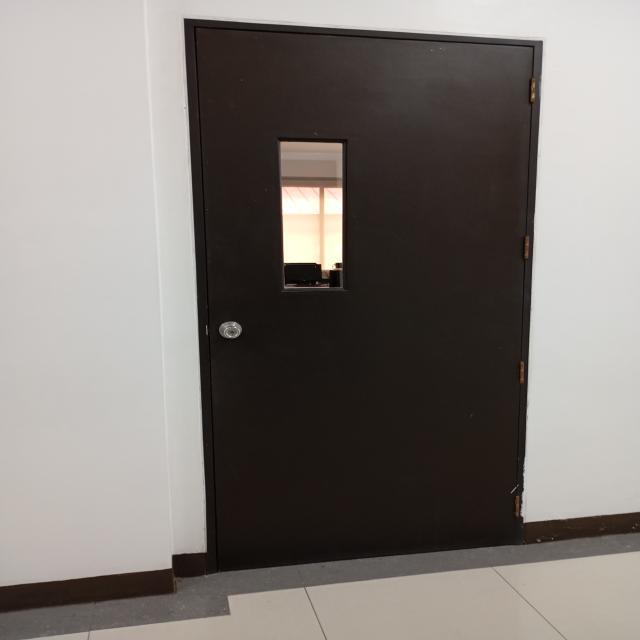door: (162, 2, 558, 594)
